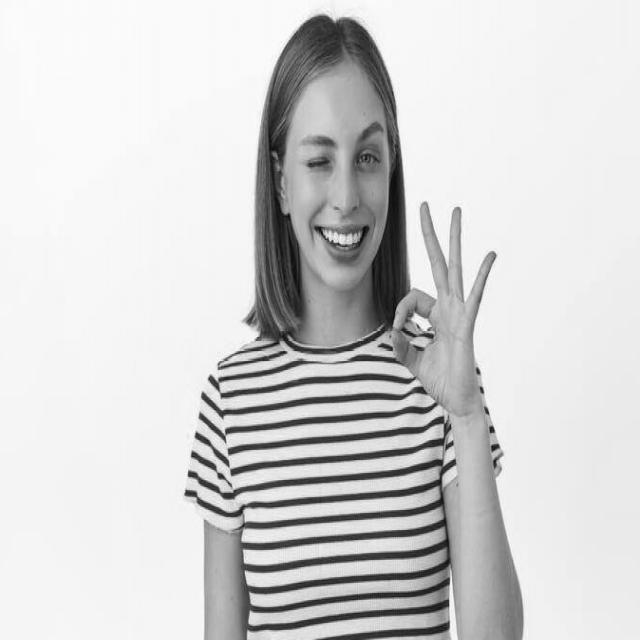perfect: (386, 188, 504, 427)
